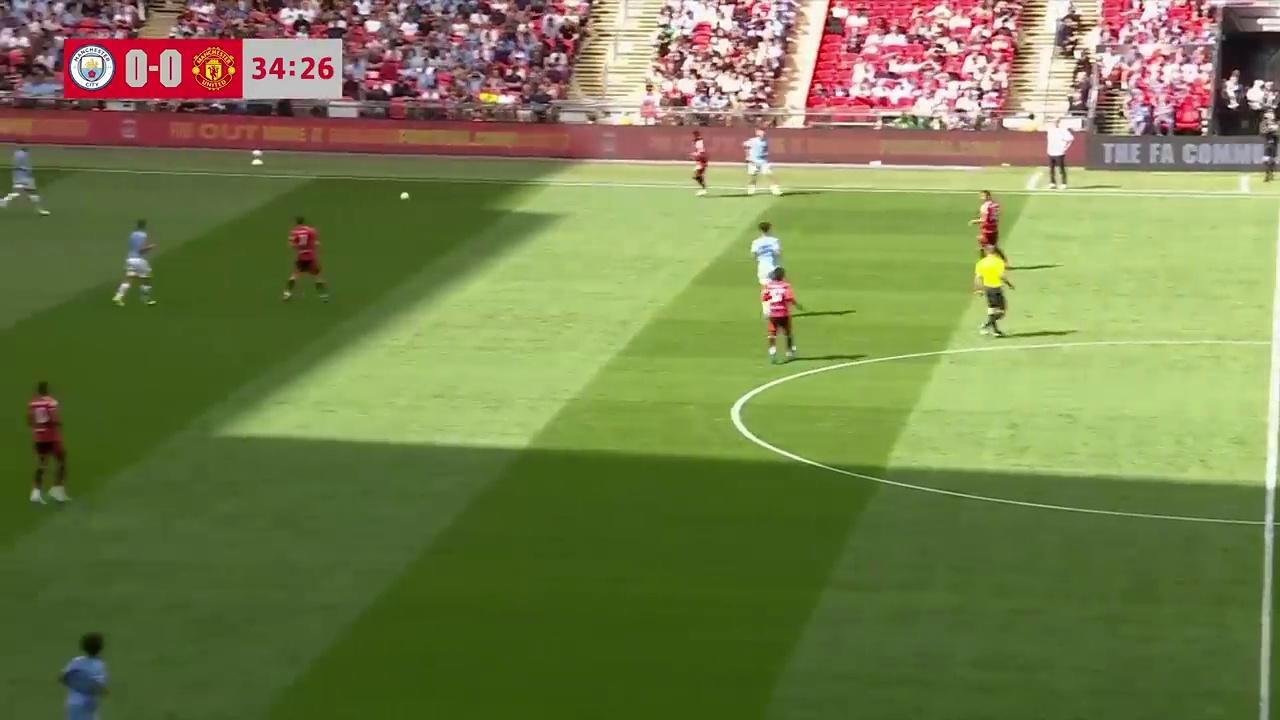ball: (398, 187, 411, 201)
player: (26, 380, 72, 507), (60, 630, 111, 720), (111, 217, 159, 307), (281, 216, 330, 303), (760, 270, 800, 363), (0, 145, 49, 215), (970, 190, 1002, 256), (750, 222, 783, 286), (744, 134, 773, 193), (691, 131, 708, 195)
referee: (972, 243, 1016, 337)
